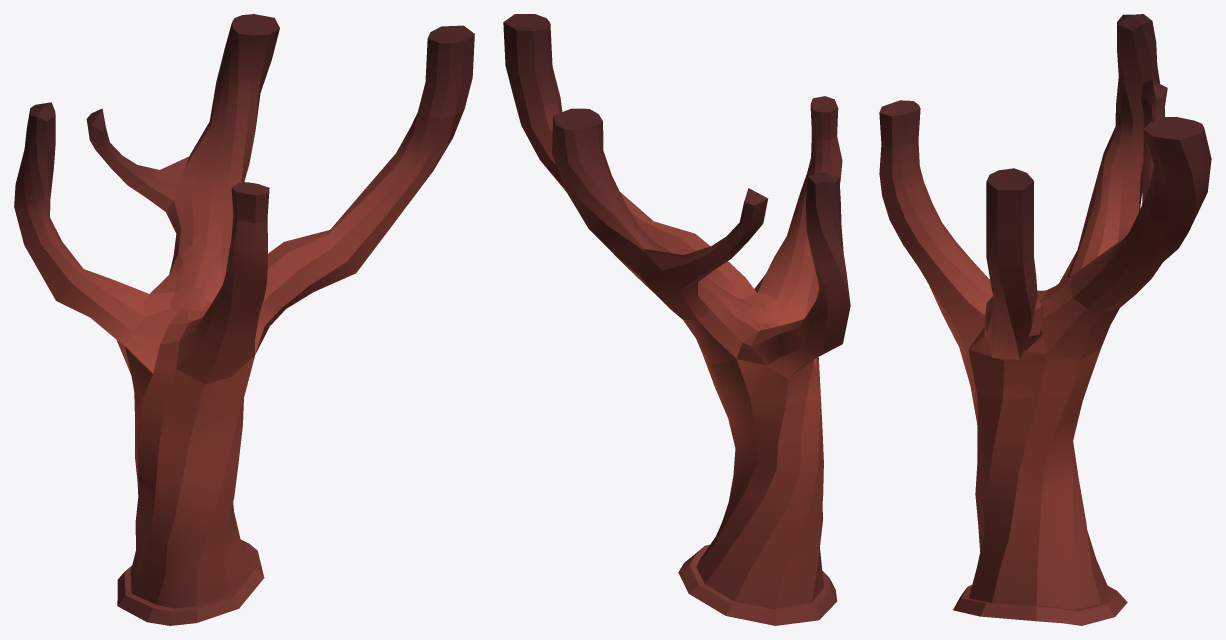
The model's file is Level2_Loosetree_1.fbx.
The picture shows the model from 3 angles, left to right: view 1: azimuth 30°, elevation 25°; view 2: azimuth 150°, elevation 25°; view 3: azimuth 270°, elevation 25°; orthographic projection. The views are drawn at different scales.
Visible parts, largest first — view 1: LooseTree_1; view 2: LooseTree_1; view 3: LooseTree_1.
Boxes of the visible parts, box(x1,y1,x2,y2) form: LooseTree_1: box(14, 14, 474, 625); LooseTree_1: box(503, 14, 850, 625); LooseTree_1: box(879, 14, 1211, 625).
Bounding box in the file's own units: 10.58 × 6.82 × 13.02.
